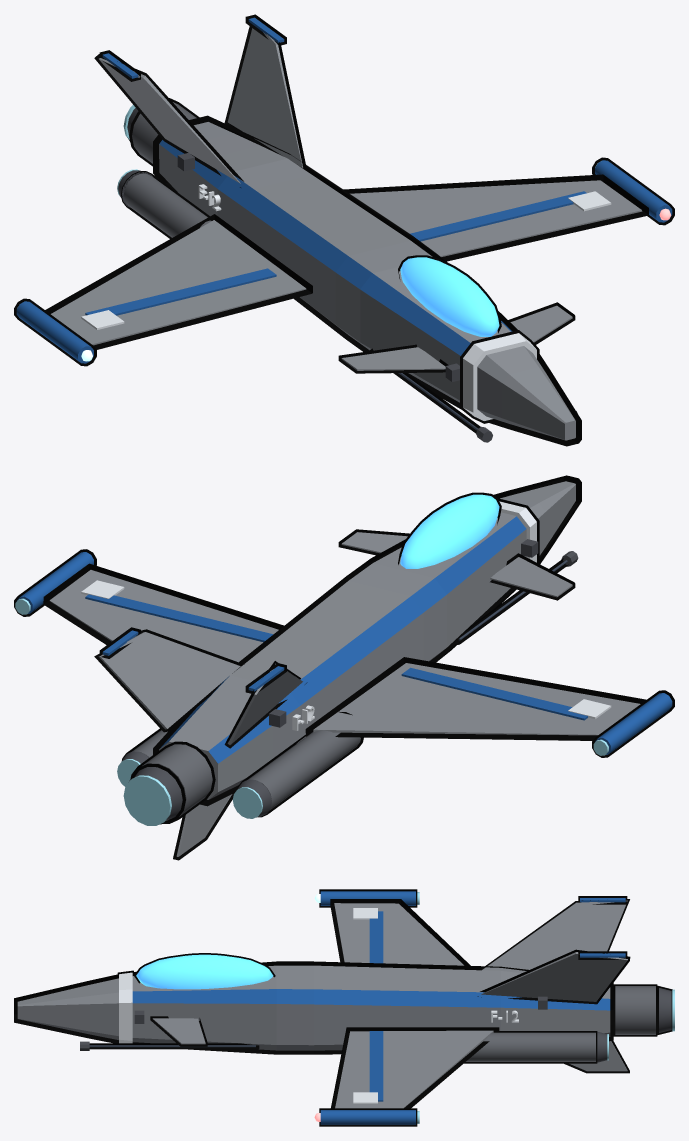
The model's file is Plane_FighterAgile.fbx.
3 renders of one model, top to bottom at view 1: azimuth 30°, elevation 25°; view 2: azimuth 150°, elevation 25°; view 3: azimuth 270°, elevation 25°, orthographic. The views are drawn at different scales.
Visible parts, largest first — view 1: Hull.001, Wing-1.001, Wing1.001, Fin1.001, Canopy.001, Fin-1.001, Aux-1_Body, NoseBand.001, Canard-1, Vern-1, WingStripe-1.001, WingStripe1.001 (+4 smaller); view 2: Hull.001, Wing-1.001, Wing1.001, Fin1.001, Canopy.001, Aux-1_Body, Main_Body, Canard-1, Vern-1, Fin-1.001, WingStripe-1.001, Main_Glow (+9 smaller); view 3: Hull.001, Wing1.001, Wing-1.001, Fin-1.001, Fin1.001, Canopy.001, Aux1_Body, Main_Body, Vern1, Canard1, Vern-1, Gun1 (+7 smaller).
Boxes of the visible parts, x1,y1,x2,y2 form: Hull.001: (153, 115, 581, 446); Wing-1.001: (43, 214, 312, 349); Wing1.001: (343, 174, 648, 261); Fin1.001: (224, 26, 307, 171); Canopy.001: (398, 255, 501, 336); Fin-1.001: (94, 54, 243, 187); Aux-1_Body: (121, 171, 211, 238); NoseBand.001: (460, 330, 539, 423); Canard-1: (338, 344, 448, 373); Vern-1: (14, 298, 96, 366); WingStripe-1.001: (85, 268, 276, 315); WingStripe1.001: (410, 191, 586, 241); Hull.001: (153, 475, 581, 806); Wing-1.001: (305, 657, 648, 740); Wing1.001: (43, 563, 283, 662); Fin1.001: (94, 629, 244, 732); Canopy.001: (398, 492, 501, 568); Aux-1_Body: (237, 711, 363, 817); Main_Body: (130, 741, 215, 823); Canard-1: (490, 553, 575, 600); Vern-1: (592, 690, 674, 757); Fin-1.001: (224, 661, 307, 748); WingStripe-1.001: (401, 667, 587, 720); Main_Glow: (123, 775, 171, 825); Hull.001: (14, 961, 613, 1054); Wing1.001: (331, 1027, 499, 1108); Wing-1.001: (330, 899, 470, 965); Fin-1.001: (480, 899, 629, 973); Fin1.001: (477, 949, 630, 1004); Canopy.001: (134, 953, 275, 989); Aux1_Body: (464, 1031, 597, 1063); Main_Body: (613, 984, 657, 1036); Vern1: (319, 1108, 417, 1126); Canard1: (150, 1016, 207, 1046); Vern-1: (319, 889, 417, 907); Gun1: (89, 1043, 259, 1049).
Size of the model in its own units: 9.82 by 2.97 by 12.12.
